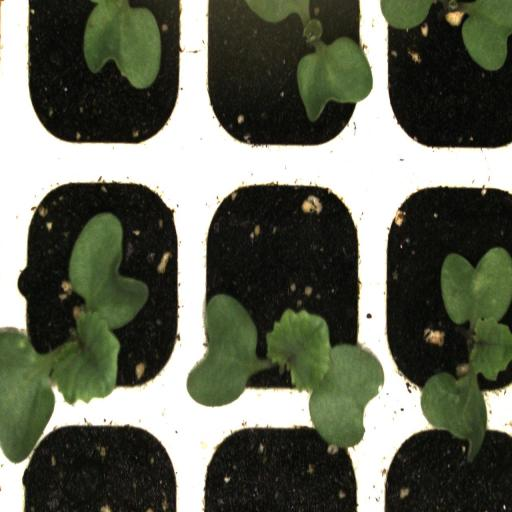Folha: (83, 0, 162, 90)
Germinacao: (188, 160, 374, 416), (6, 161, 190, 410), (375, 160, 512, 418), (190, 1, 376, 161)
